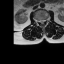CCS_normal: (41, 18, 43, 25)
LFS_stenosis: (44, 18, 46, 22)
LLS_normal: (43, 18, 45, 23)
RFS_stenosis: (38, 18, 40, 23)
RLS_normal: (40, 18, 41, 23)
